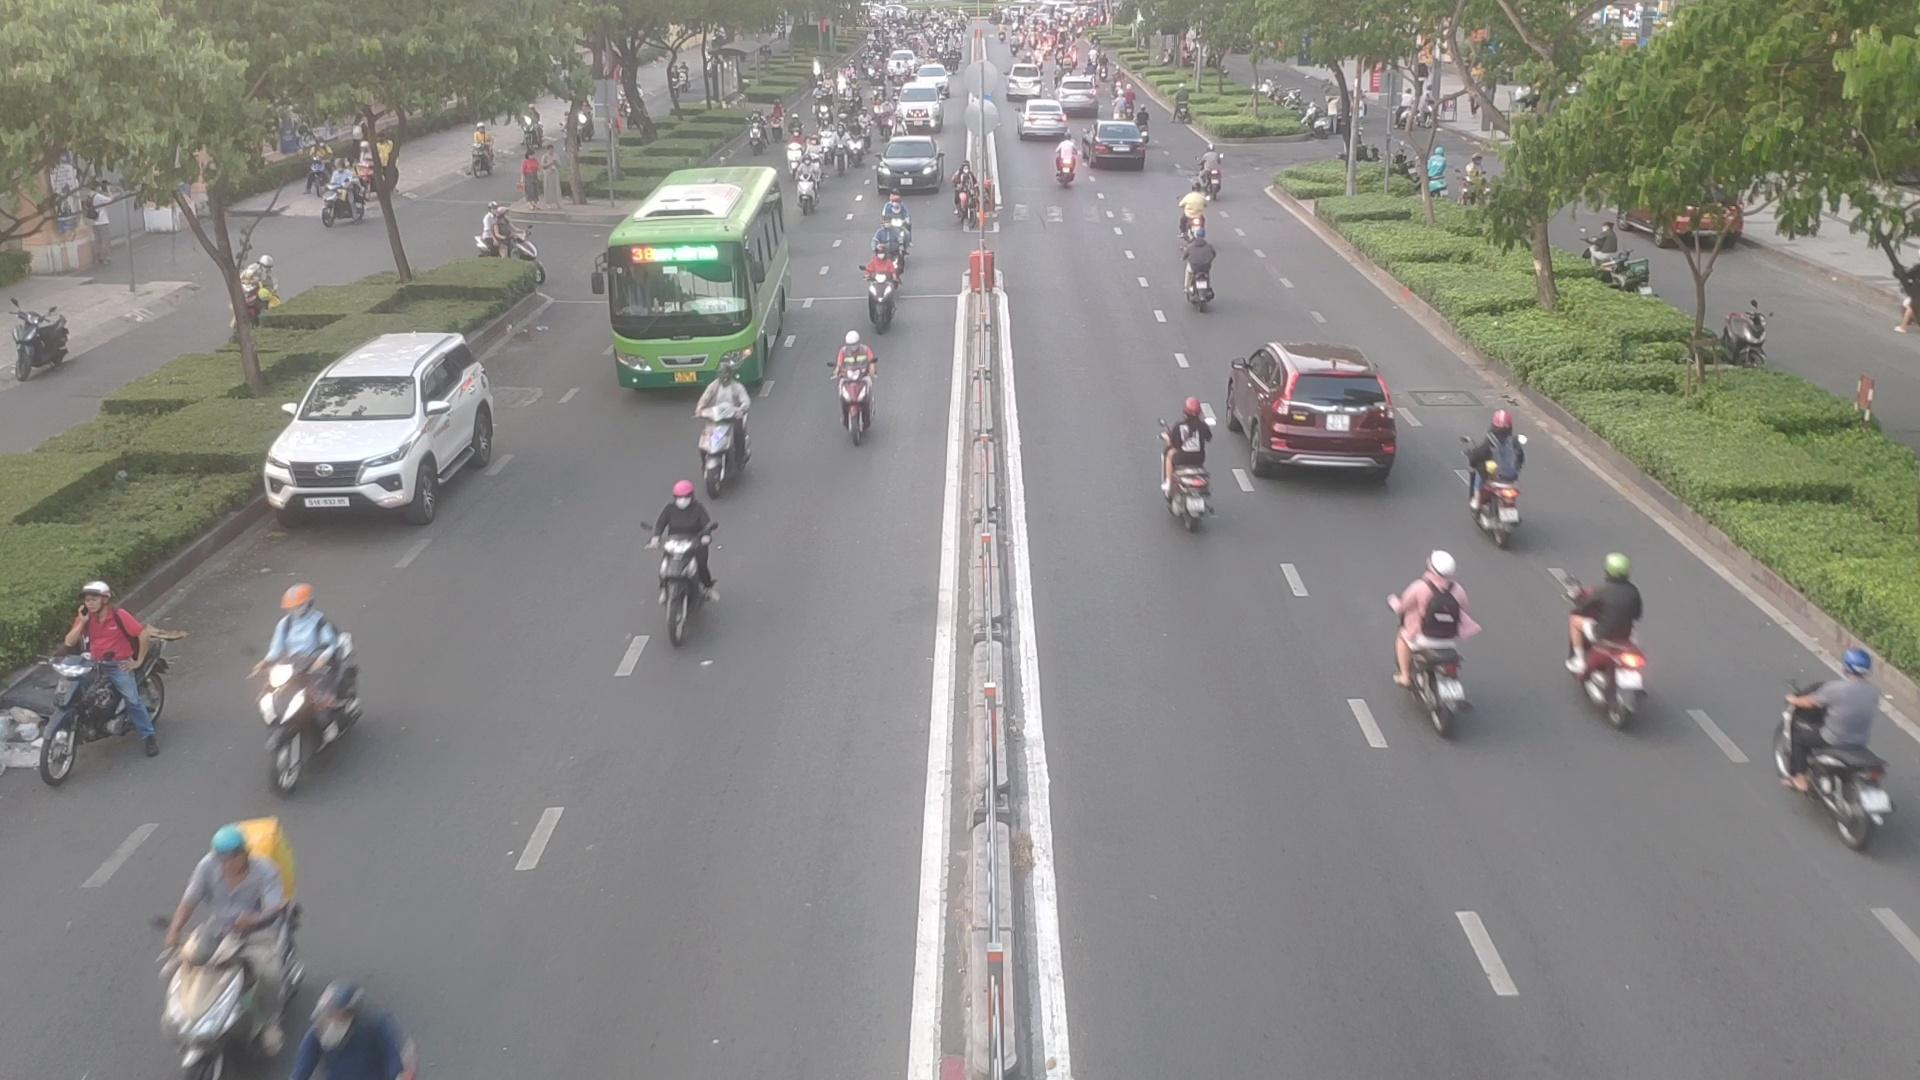bus: (597, 179, 798, 400)
car: (268, 331, 512, 526), (1222, 338, 1402, 476), (878, 138, 949, 196), (1081, 121, 1150, 169), (1018, 102, 1069, 141)
motorbike: (152, 822, 306, 1077), (1766, 646, 1913, 844), (26, 582, 158, 774), (247, 595, 353, 785), (1387, 566, 1489, 736), (1571, 556, 1665, 720), (647, 483, 721, 636), (1142, 400, 1215, 527), (1460, 425, 1526, 538), (695, 372, 762, 483), (824, 338, 886, 448), (856, 255, 907, 334), (1174, 237, 1218, 313), (960, 171, 1007, 233), (866, 218, 913, 266), (1048, 140, 1080, 190), (837, 123, 869, 169)
